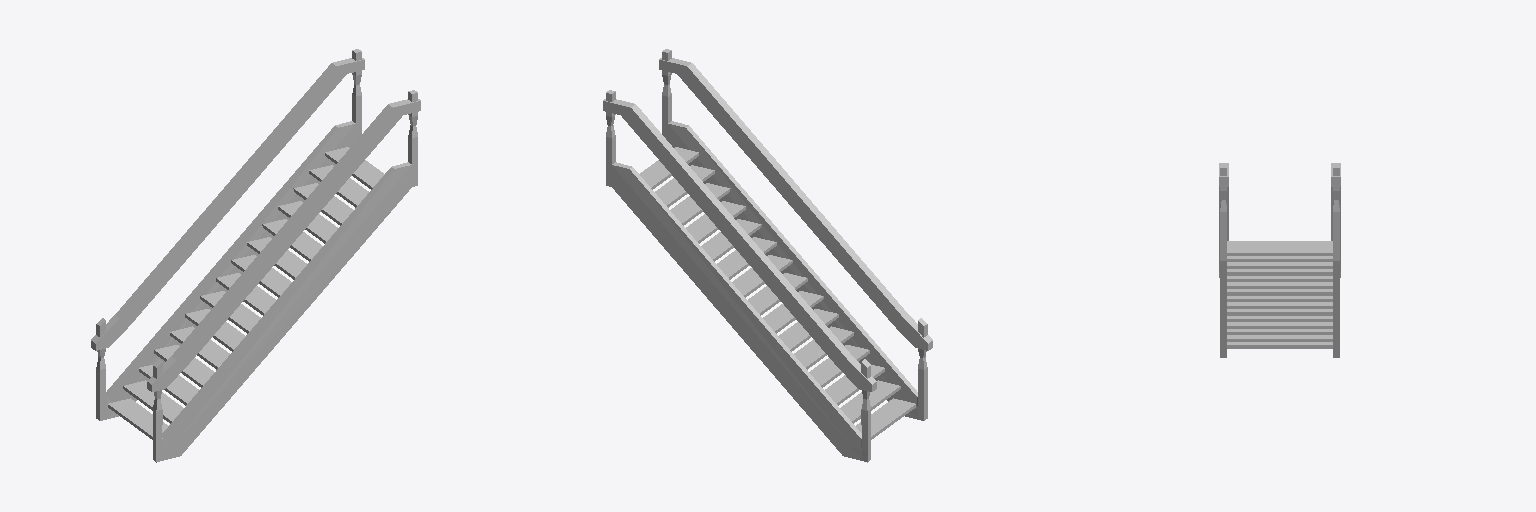
The model's file is stairs.obj.
The picture shows the model from 3 angles: view 1: azimuth 30°, elevation 25°; view 2: azimuth 150°, elevation 25°; view 3: azimuth 270°, elevation 25°; orthographic projection.
Bounding box in the file's own units: 4.69 × 5.08 × 1.85.